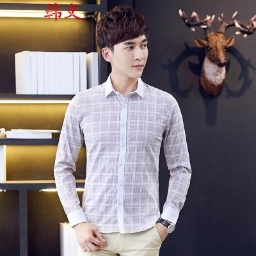face: (95, 5, 150, 81)
